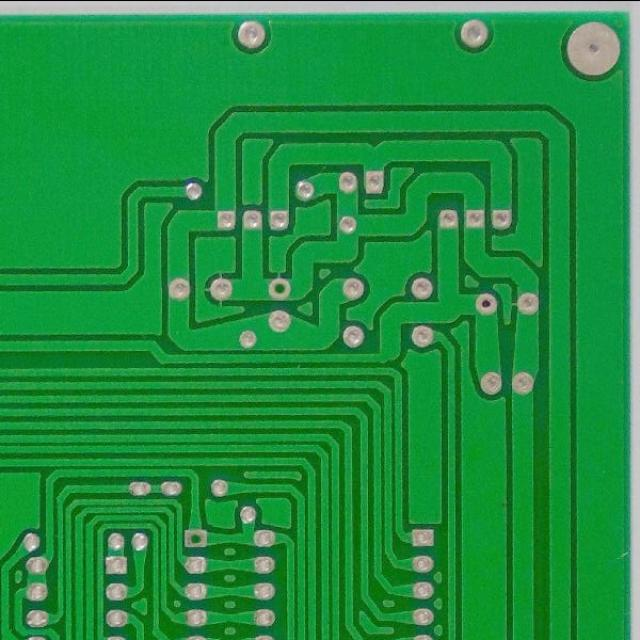Missing_Hole: (267, 275, 292, 302), (474, 291, 499, 316), (183, 525, 208, 549)
